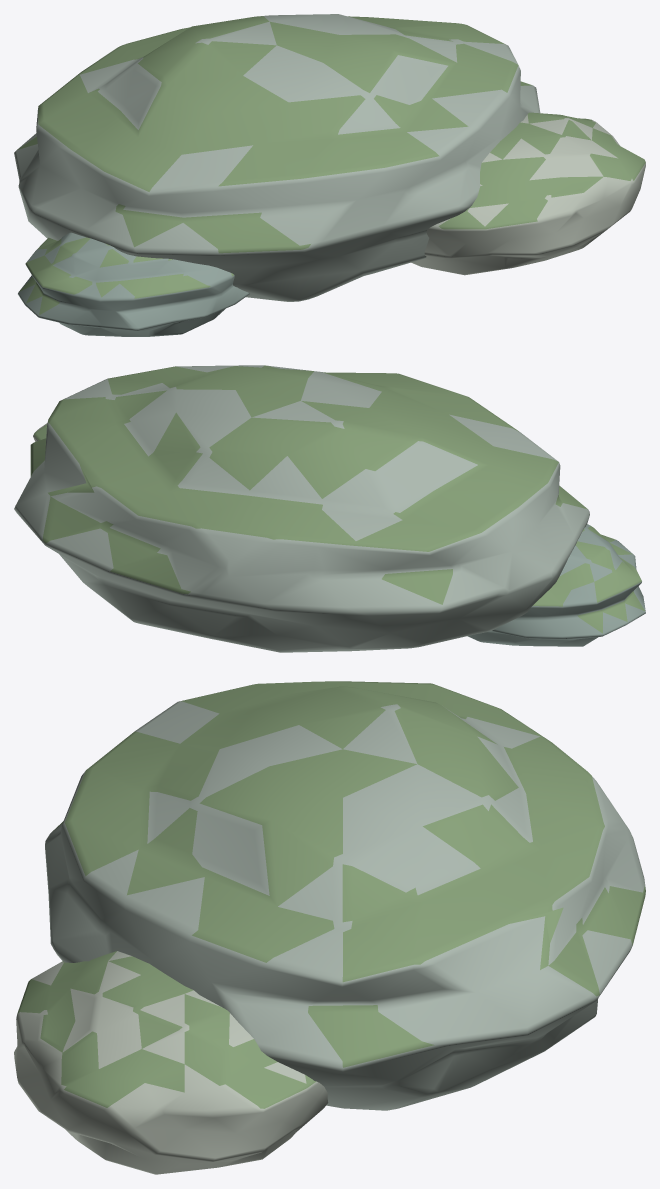
File: rock.glb
3 renders of one model, top to bottom at view 1: azimuth 30°, elevation 25°; view 2: azimuth 150°, elevation 25°; view 3: azimuth 270°, elevation 25°, orthographic. The views are drawn at different scales.
Parts seen in each view (by area): view 1: Mossy pebble 0, Mossy pebble 1, Mossy pebble 2; view 2: Mossy pebble 0, Mossy pebble 2; view 3: Mossy pebble 0, Mossy pebble 1.
Boxes of the visible parts, x1=… form: Mossy pebble 0: x1=14, y1=14, x2=540, y2=301; Mossy pebble 1: x1=411, y1=112, x2=645, y2=275; Mossy pebble 2: x1=18, y1=232, x2=249, y2=336; Mossy pebble 0: x1=14, y1=365, x2=589, y2=652; Mossy pebble 2: x1=467, y1=524, x2=645, y2=646; Mossy pebble 0: x1=45, y1=681, x2=645, y2=1110; Mossy pebble 1: x1=14, y1=951, x2=328, y2=1174.
Size of the model in its own units: 1.74 by 0.6008 by 1.2.
